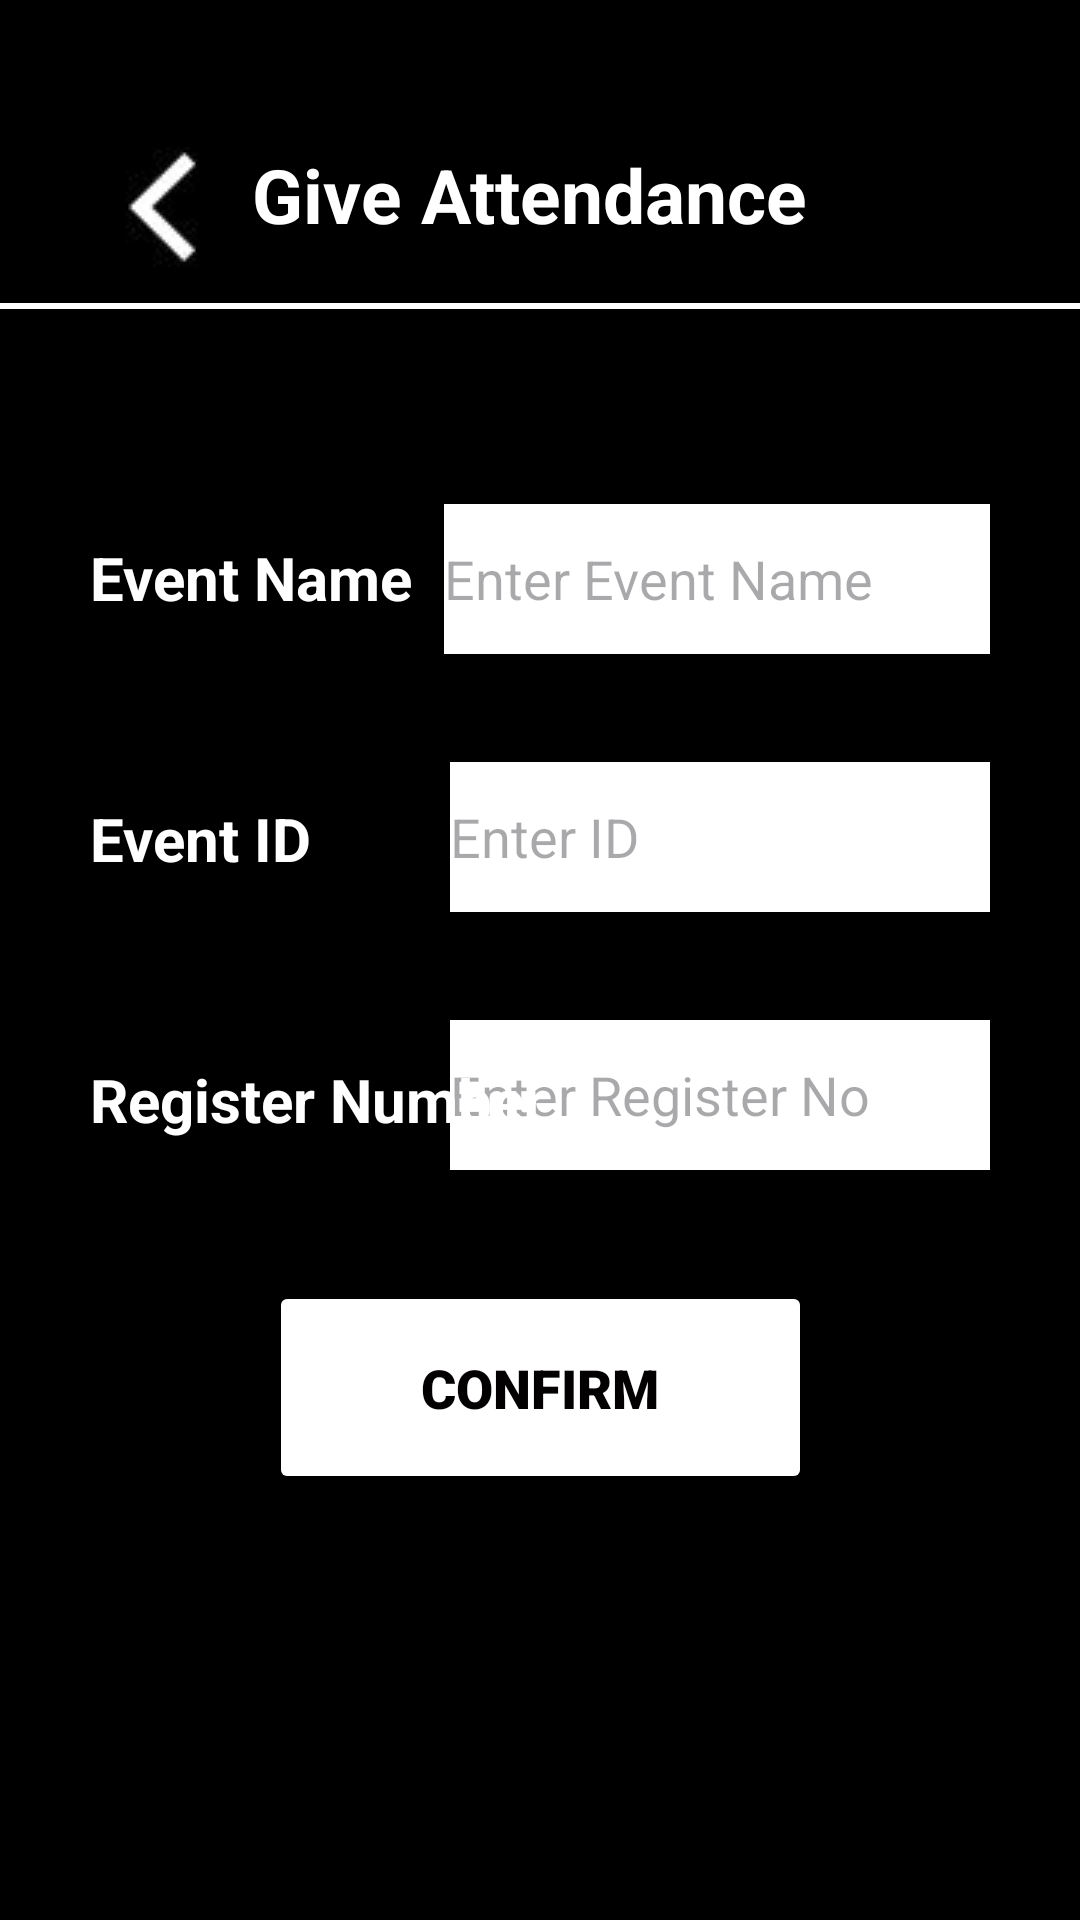

Where to tap for icons on this 1080x1920 app screen, as [x,y]:
backkk: [162,207]
